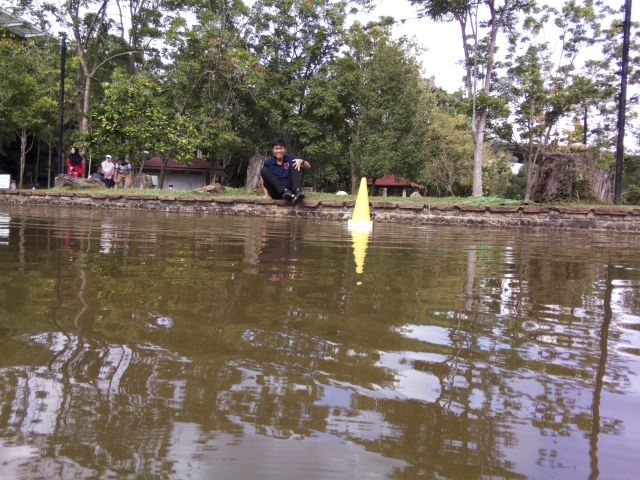checkpoint: (347, 175, 376, 234)
